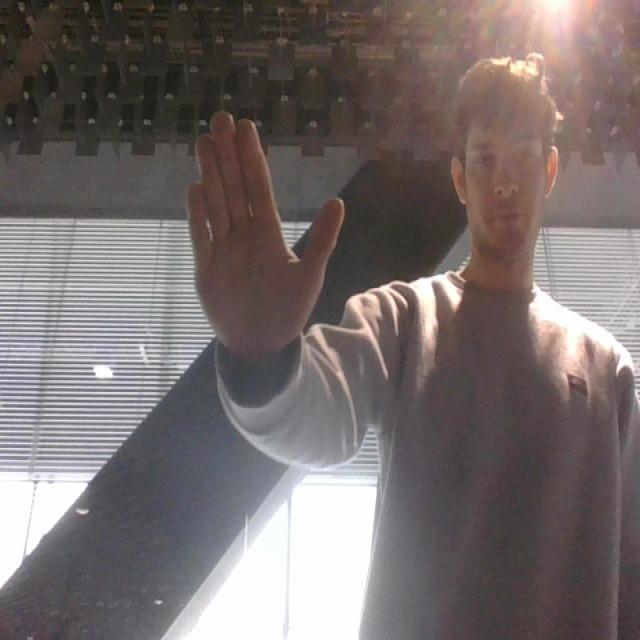backward: (177, 101, 355, 388)
